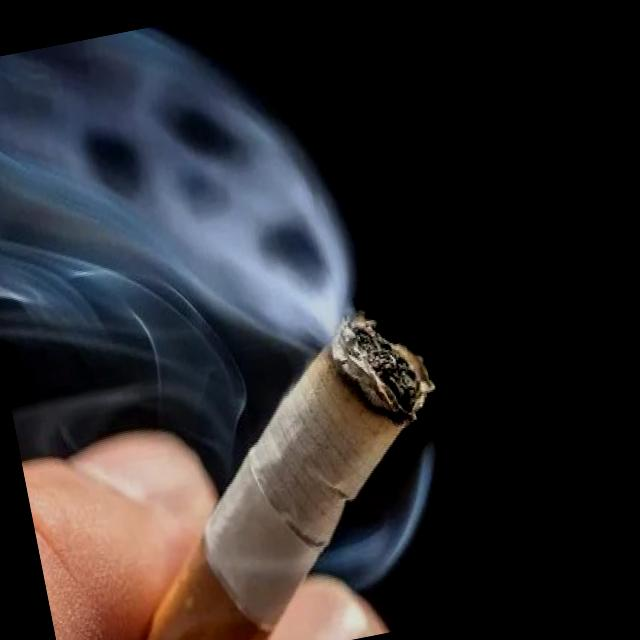smoke: (55, 282, 485, 640)
